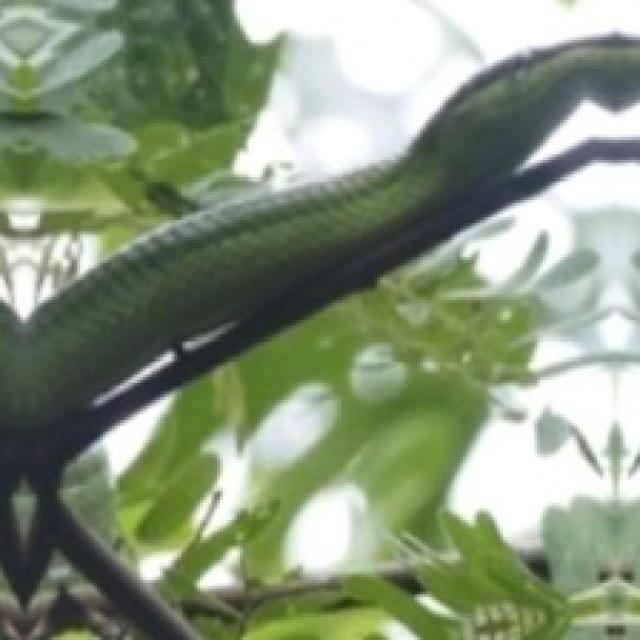red-tailed green ratsnake: (0, 42, 640, 427)
